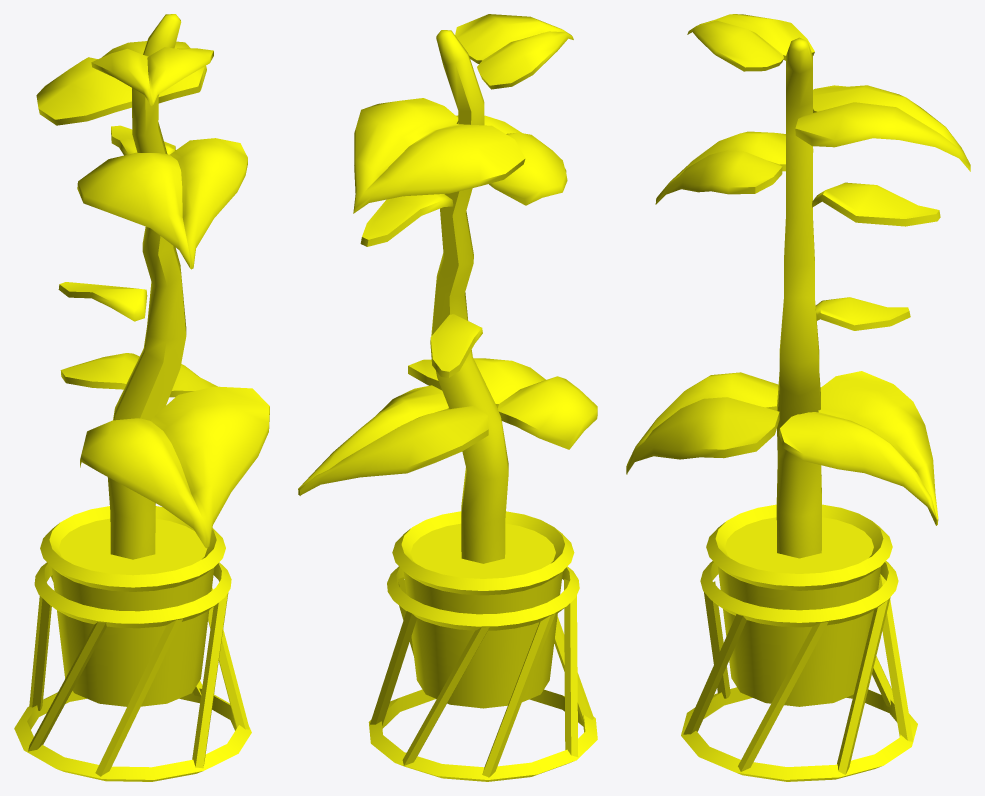
3 views of the same model, side by side, from view 1: azimuth 30°, elevation 25°; view 2: azimuth 150°, elevation 25°; view 3: azimuth 270°, elevation 25° (orthographic). The views are drawn at different scales.
Parts seen in each view (by area): view 1: nordic_plant; view 2: nordic_plant; view 3: nordic_plant.
Part boxes in pixels (x1,y1,x2,y2): nordic_plant: (14,14,269,781); nordic_plant: (298,14,597,781); nordic_plant: (626,14,970,781).
Bounding box in the file's own units: 0.00678 × 0.0207 × 0.00902.
1 material, 1 textured.
